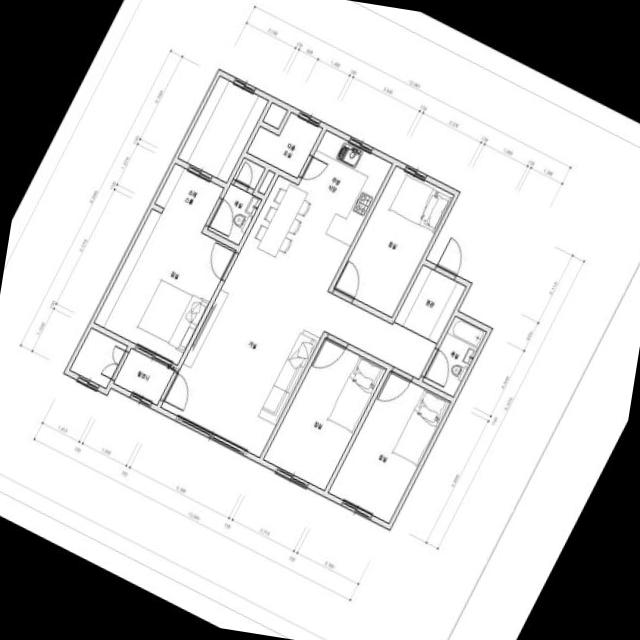background: (0, 0, 640, 640)
space_balconi: (114, 349, 174, 405)
space_bedroom: (94, 209, 235, 365), (264, 338, 386, 490), (328, 372, 450, 523), (334, 166, 454, 317)
space_dressroom: (154, 164, 224, 230)
space_front: (393, 265, 466, 347)
space_kitchen: (242, 131, 392, 292)
space_living_room: (161, 248, 435, 458)
space_multipurpose_space: (247, 113, 322, 178)
space_other: (178, 77, 268, 183), (70, 329, 127, 389), (263, 103, 287, 129), (258, 171, 274, 195)
space_toilet: (423, 317, 486, 397), (208, 159, 265, 245)
